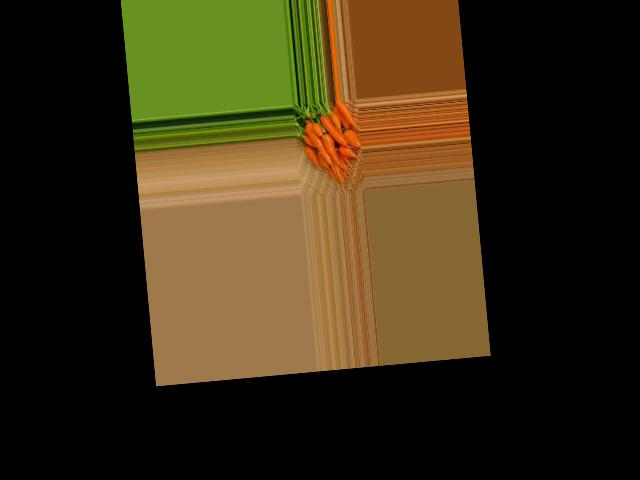carrot: (300, 136, 316, 151)
